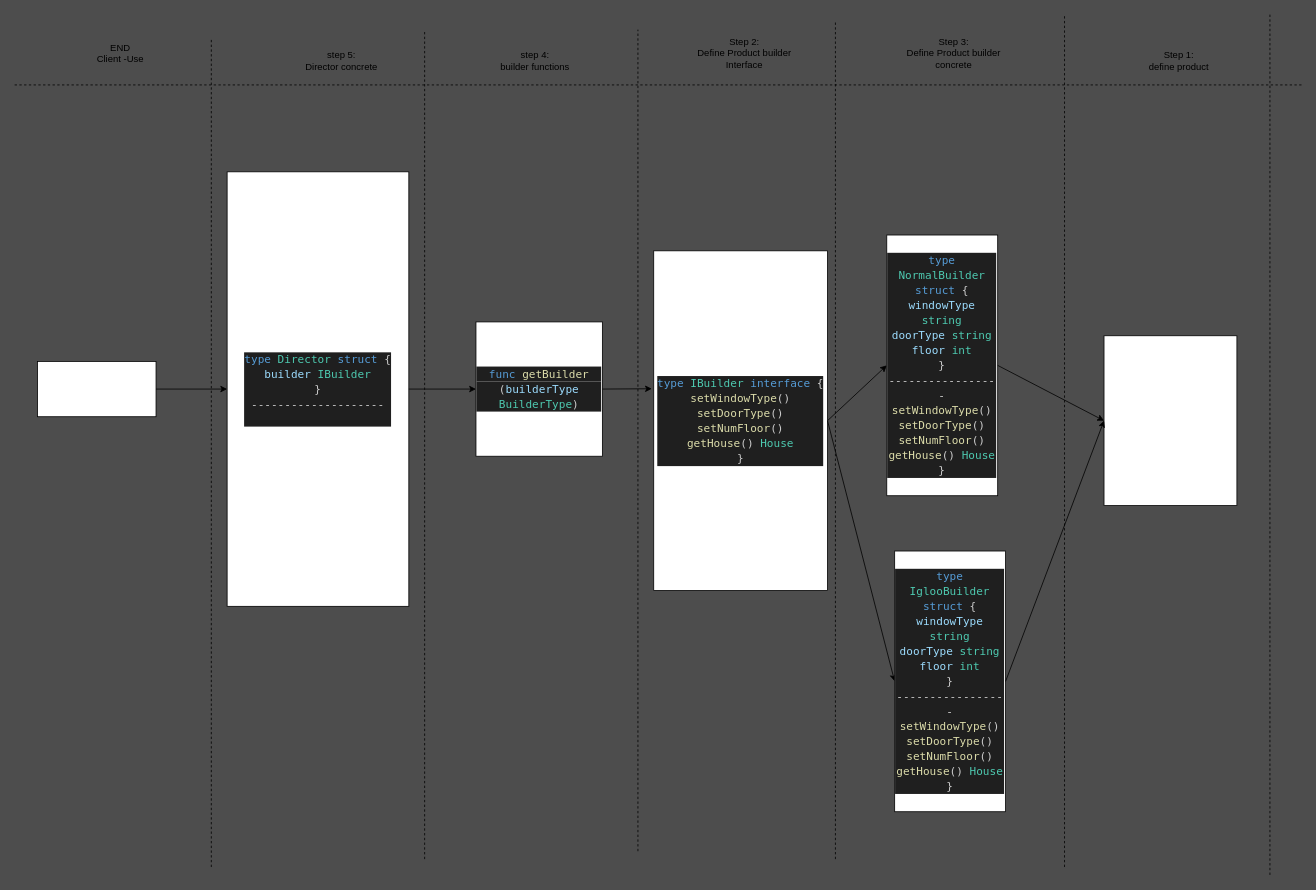
Image size: 1316x890. Some labels were removed from this diagram. Each missing label, with the centre of its shape:
Client: (x=96, y=389)
type House struct { windowType string doorType string floor int }: (x=1170, y=420)
